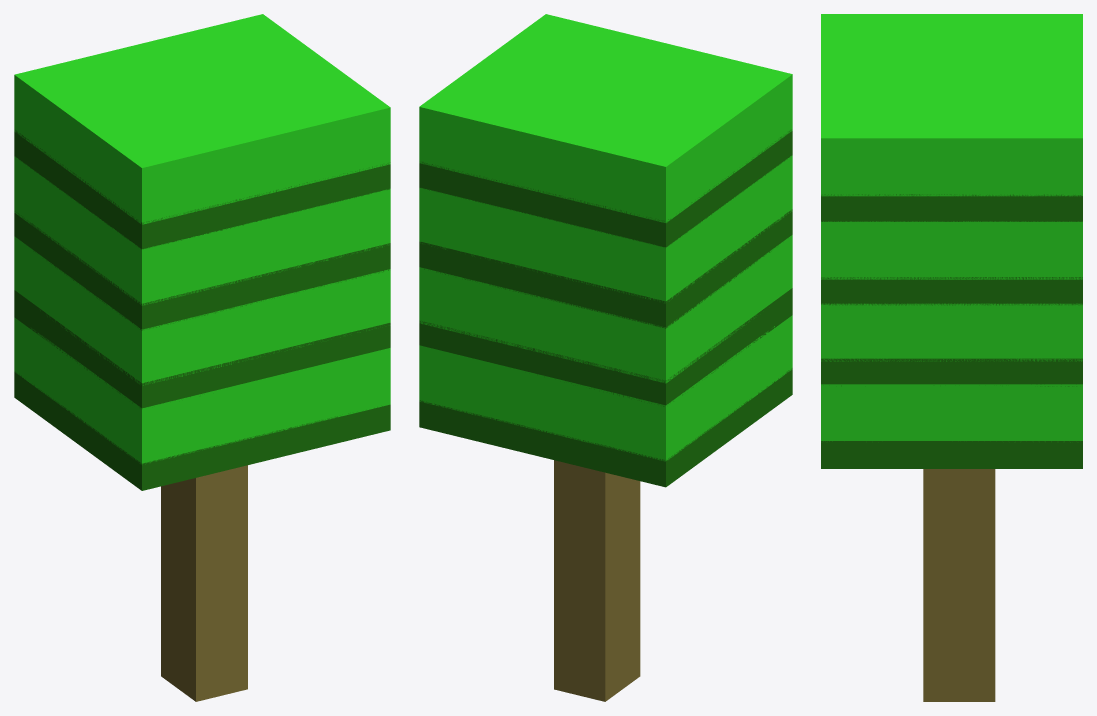
The model's file is tree.gltf.
3 views of the same model, side by side, from view 1: azimuth 30°, elevation 25°; view 2: azimuth 150°, elevation 25°; view 3: azimuth 270°, elevation 25° (orthographic). The views are drawn at different scales.
Parts seen in each view (by area): view 1: Cube.009_2; view 2: Cube.009_2; view 3: Cube.009_2.
Boxes of the visible parts, left/top/right/bottom form: Cube.009_2: left=14, top=14, right=390, bottom=701; Cube.009_2: left=419, top=14, right=792, bottom=701; Cube.009_2: left=821, top=14, right=1082, bottom=701.
Bounding box in the file's own units: 2.1 × 4.8 × 1.87.
